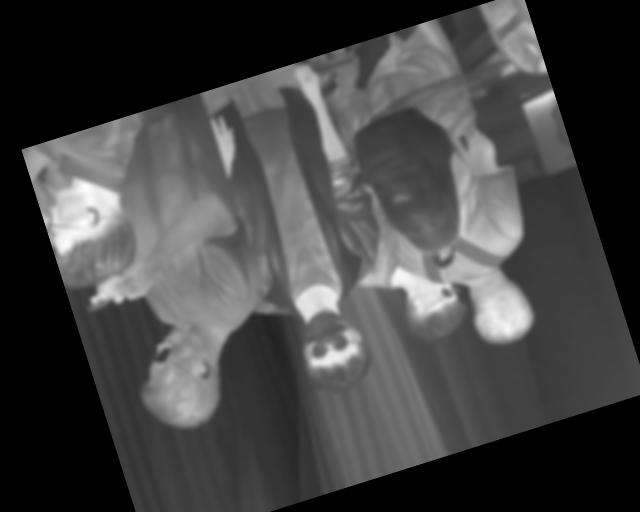face: (123, 315, 233, 441), (290, 299, 378, 399)
